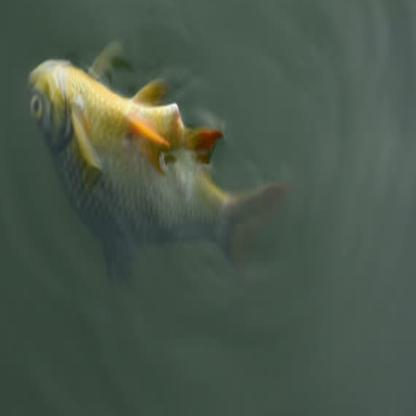deceased fish: (26, 54, 289, 274)
